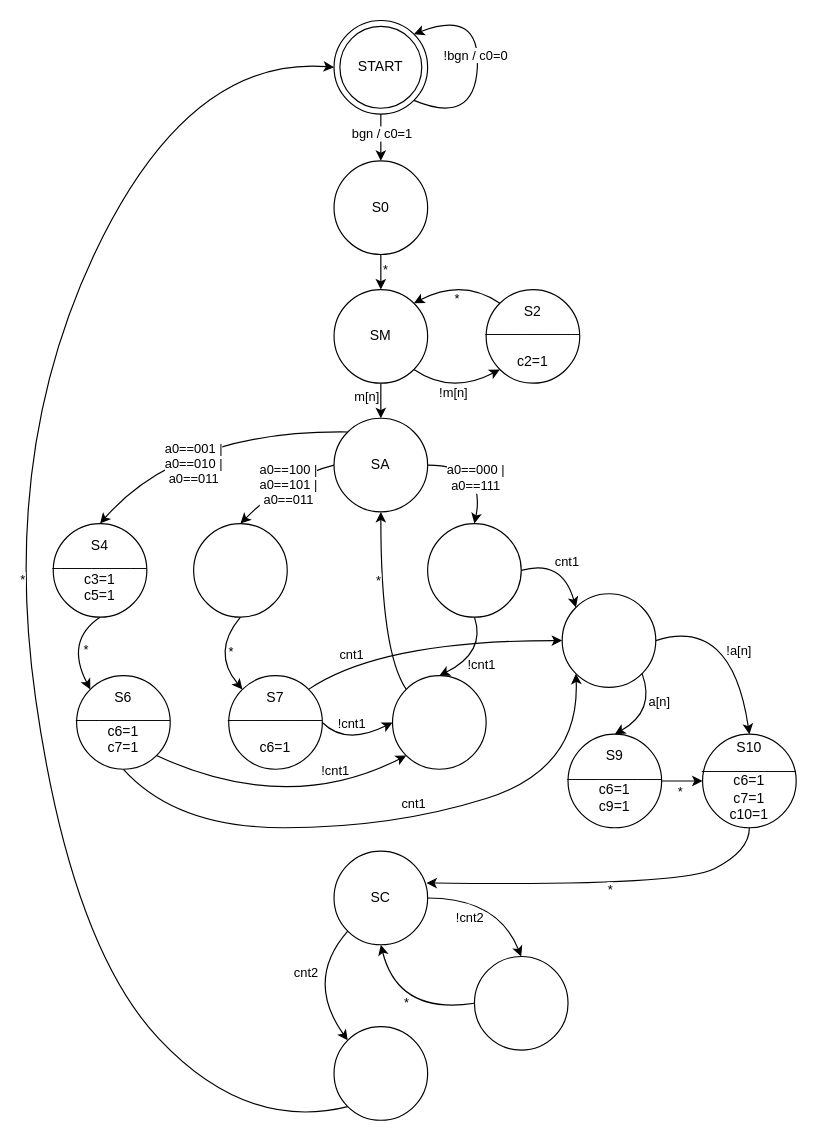
This 817x1141 diagram has some shape labels left out. Each missing label, with the centre of its shape:
S11 ____________ c11=1: the point at 520,1002
S12 ____________ c12=1 fin=1: the point at 380,1073
S3 ____________ c5=1: the point at 473,569
S5 ____________ c4=1 c5=1: the point at 239,569
S8 ____________ c8=1: the point at 438,722
SAN: the point at 608,640
